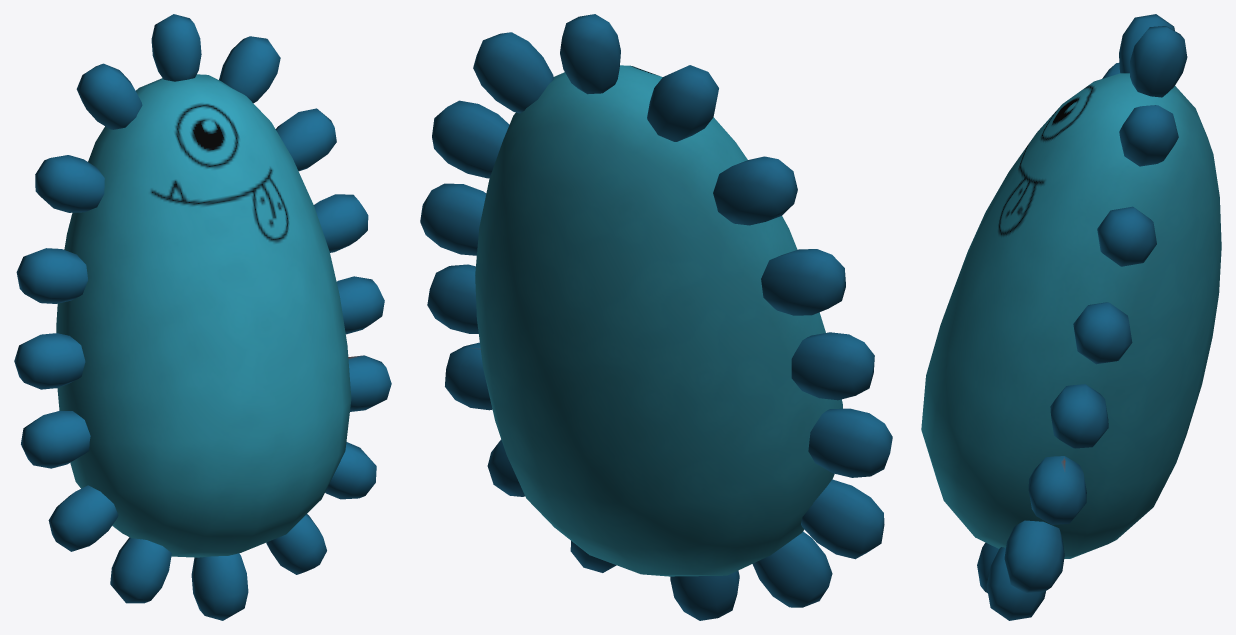
Rendered from BlueGermPlayer2.fbx.
3 renders of one model, left to right at view 1: azimuth 30°, elevation 25°; view 2: azimuth 150°, elevation 25°; view 3: azimuth 270°, elevation 25°, orthographic. The views are drawn at different scales.
Parts seen in each view (by area): view 1: BluePlayer, BluePlayer.005, BluePlayer.007, BluePlayer.008, BluePlayer.011, BluePlayer.015, BluePlayer.016, BluePlayer.014, BluePlayer.002, BluePlayer.001, BluePlayer.003, BluePlayer.004 (+5 smaller); view 2: BluePlayer, BluePlayer.015, BluePlayer.008, BluePlayer.007, BluePlayer.016, BluePlayer.005, BluePlayer.003, BluePlayer.004, BluePlayer.002, BluePlayer.001, BluePlayer.014, BluePlayer.006 (+4 smaller); view 3: BluePlayer, BluePlayer.013, BluePlayer.010, BluePlayer.001, BluePlayer.009, BluePlayer.006, BluePlayer.003, BluePlayer.004, BluePlayer.012, BluePlayer.002, BluePlayer.011.
Part boxes in pixels (x1,y1,x2,y2): BluePlayer: (56,74,351,557); BluePlayer.005: (35,155,104,212); BluePlayer.007: (16,248,87,303); BluePlayer.008: (14,333,85,389); BluePlayer.011: (191,553,248,620); BluePlayer.015: (21,411,90,468); BluePlayer.016: (48,485,118,551); BluePlayer.014: (110,537,171,603); BluePlayer.002: (76,63,142,129); BluePlayer.001: (151,14,201,81); BluePlayer.003: (219,36,280,103); BluePlayer.004: (275,108,336,171); BluePlayer: (475,65,842,576); BluePlayer.015: (808,408,892,477); BluePlayer.008: (791,332,874,400); BluePlayer.007: (761,249,845,315); BluePlayer.016: (801,479,884,559); BluePlayer.005: (713,156,797,225); BluePlayer.003: (473,32,553,113); BluePlayer.004: (432,100,509,178); BluePlayer.002: (647,65,718,141); BluePlayer.001: (560,14,620,94); BluePlayer.014: (752,531,832,607); BluePlayer.006: (420,183,486,255); BluePlayer: (921,73,1221,558); BluePlayer.013: (1004,520,1064,593); BluePlayer.010: (1028,456,1086,524); BluePlayer.001: (1130,26,1187,97); BluePlayer.009: (1050,384,1108,448); BluePlayer.006: (1073,302,1132,364); BluePlayer.003: (1119,105,1178,166); BluePlayer.004: (1097,206,1156,266); BluePlayer.012: (986,547,1045,620); BluePlayer.002: (1119,14,1174,73); BluePlayer.011: (977,542,998,593).
Bounding box in the file's own units: 7076 × 9925 × 4616.
